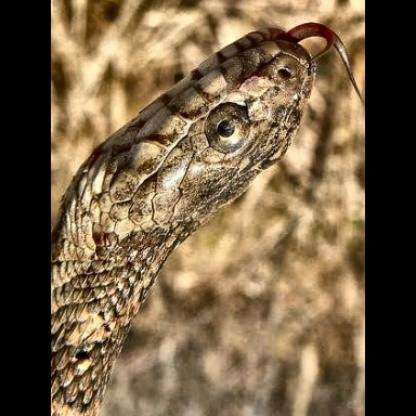Snake: (54, 26, 338, 404)
